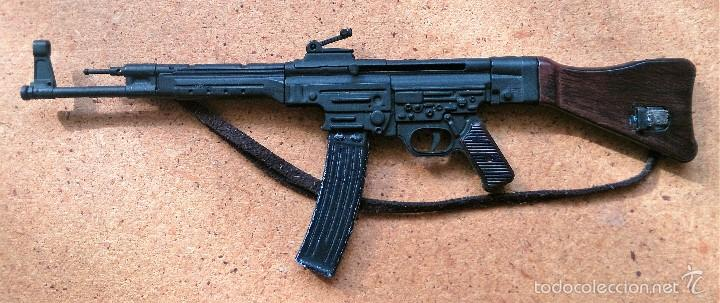Arma Real: (21, 31, 701, 279)
